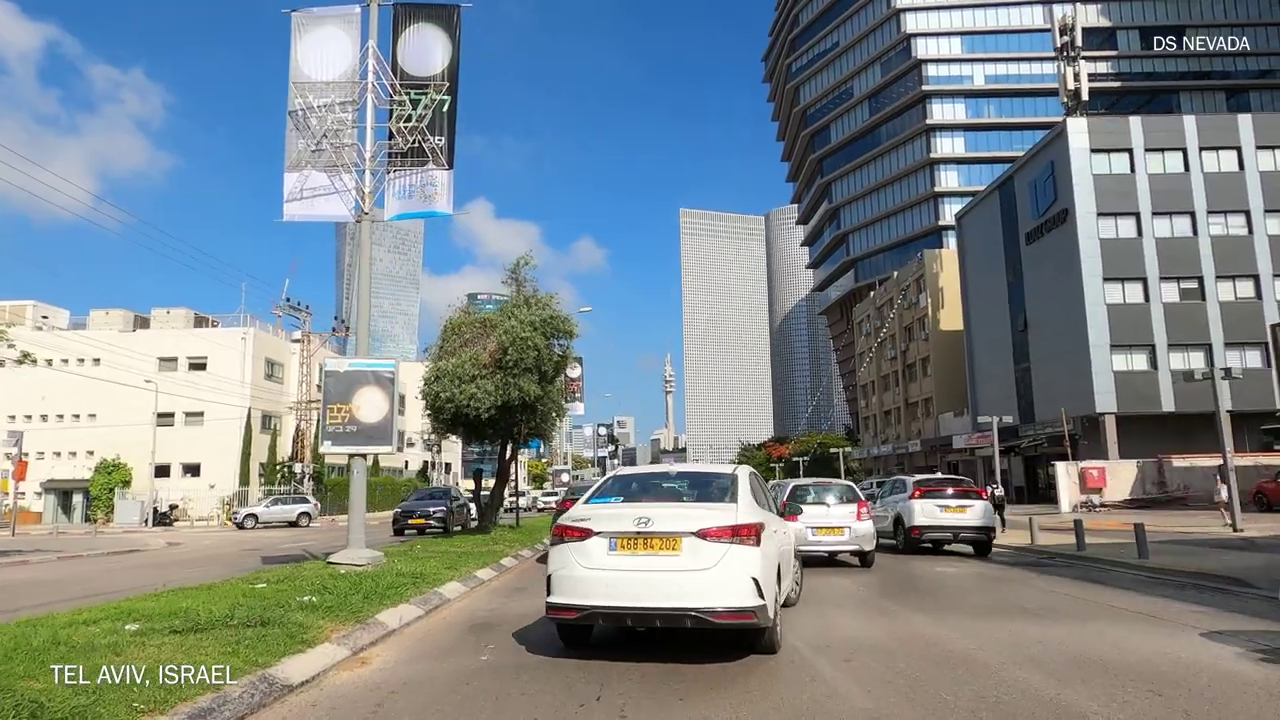licence: (807, 528, 831, 535), (820, 529, 841, 535), (407, 517, 421, 523), (407, 519, 420, 524)
